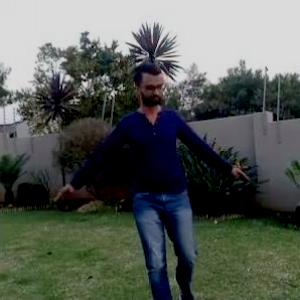land: (94, 55, 230, 284)
